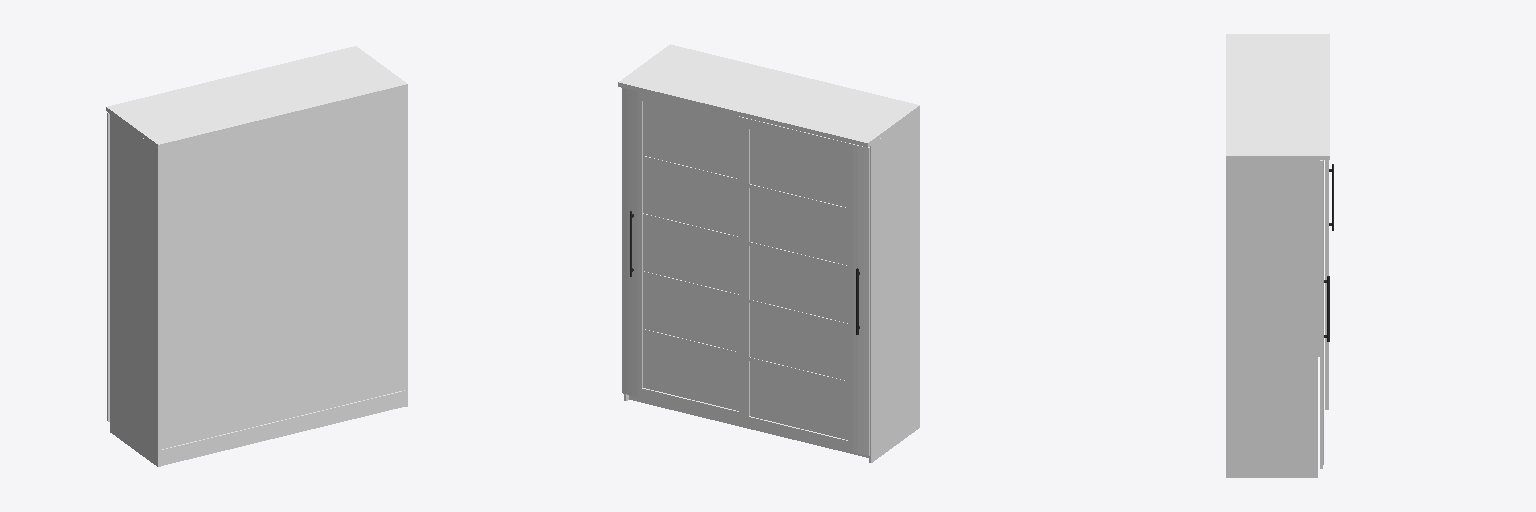
File: wardrobe.obj
3 views of the same model, side by side, from view 1: azimuth 30°, elevation 25°; view 2: azimuth 150°, elevation 25°; view 3: azimuth 270°, elevation 25° (orthographic).
Visible parts, largest first — view 1: wardrobe.001; view 2: wardrobe.001; view 3: wardrobe.001.
Boxes of the visible parts, x1,y1,x2,y2 form: wardrobe.001: [106, 46, 407, 466]; wardrobe.001: [618, 44, 919, 462]; wardrobe.001: [1226, 34, 1333, 477].
Size of the model in its own units: 2.35 by 2.9 by 0.8839.